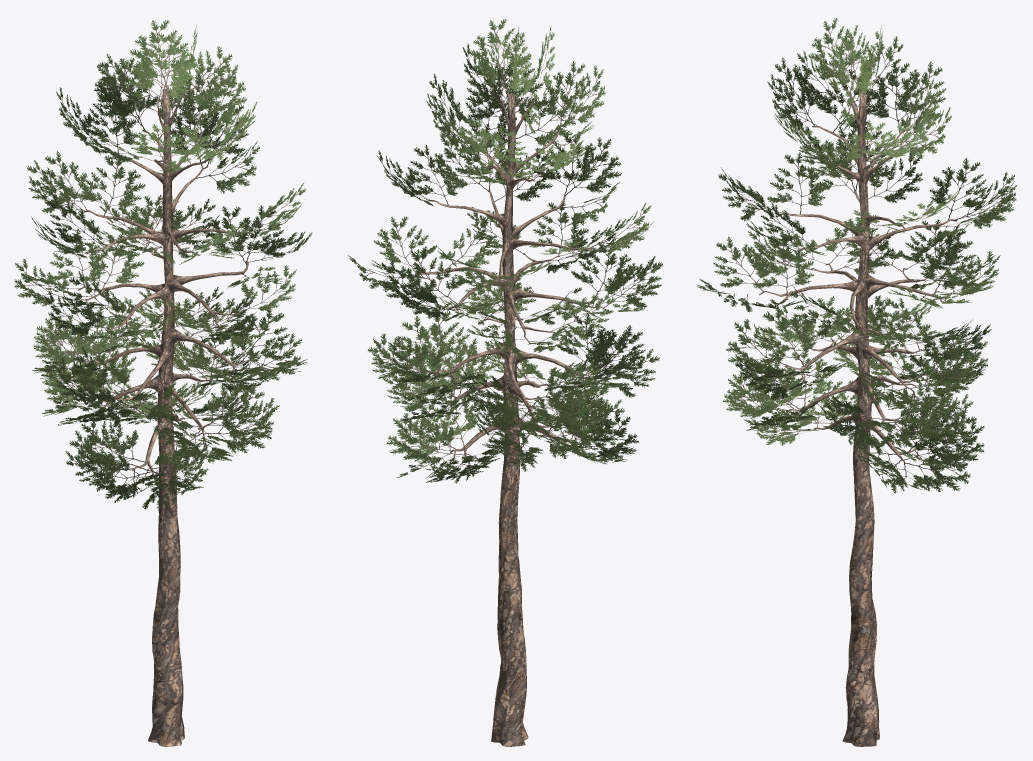
The model's file is pine.glb.
3 views of the same model, side by side, from view 1: azimuth 30°, elevation 25°; view 2: azimuth 150°, elevation 25°; view 3: azimuth 270°, elevation 25° (orthographic).
Parts seen in each view (by area): view 1: Tree_1, Tree_0; view 2: Tree_1, Tree_0; view 3: Tree_1, Tree_0.
Part boxes in pixels (left/top/right/bottom): Tree_1: left=14, top=20, right=312, bottom=510; Tree_0: left=77, top=88, right=253, bottom=746; Tree_1: left=348, top=19, right=662, bottom=483; Tree_0: left=411, top=88, right=605, bottom=746; Tree_1: left=697, top=18, right=1016, bottom=493; Tree_0: left=759, top=88, right=956, bottom=746.
Bounding box in the file's own units: 2.18 × 5.32 × 2.17.
Materials: 2 (2 with a texture image).
